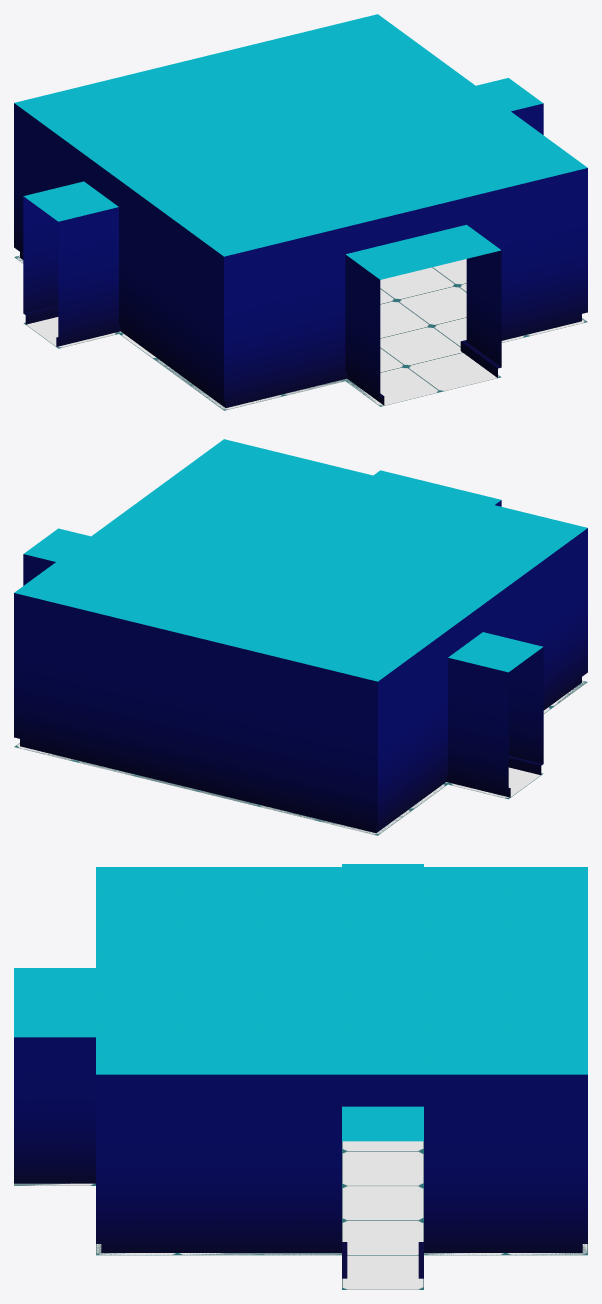
The model's file is SalaGrande2Saidas.fbx.
The picture shows the model from 3 angles, top to bottom: view 1: azimuth 30°, elevation 25°; view 2: azimuth 150°, elevation 25°; view 3: azimuth 270°, elevation 25°; orthographic projection. The views are drawn at different scales.
Parts seen in each view (by area): view 1: SalaGrande2Saidas; view 2: SalaGrande2Saidas; view 3: SalaGrande2Saidas.
Boxes of the visible parts, box(x1,y1,x2,y2) form: SalaGrande2Saidas: box(14, 14, 587, 410); SalaGrande2Saidas: box(14, 439, 587, 835); SalaGrande2Saidas: box(14, 864, 587, 1289).
Bounding box in the file's own units: 800 × 243 × 700.
1 material, 1 textured.
